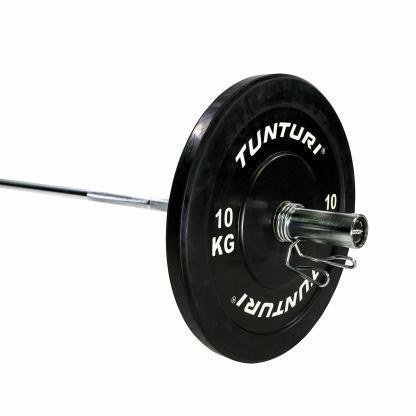barbell: (162, 72, 362, 366)
